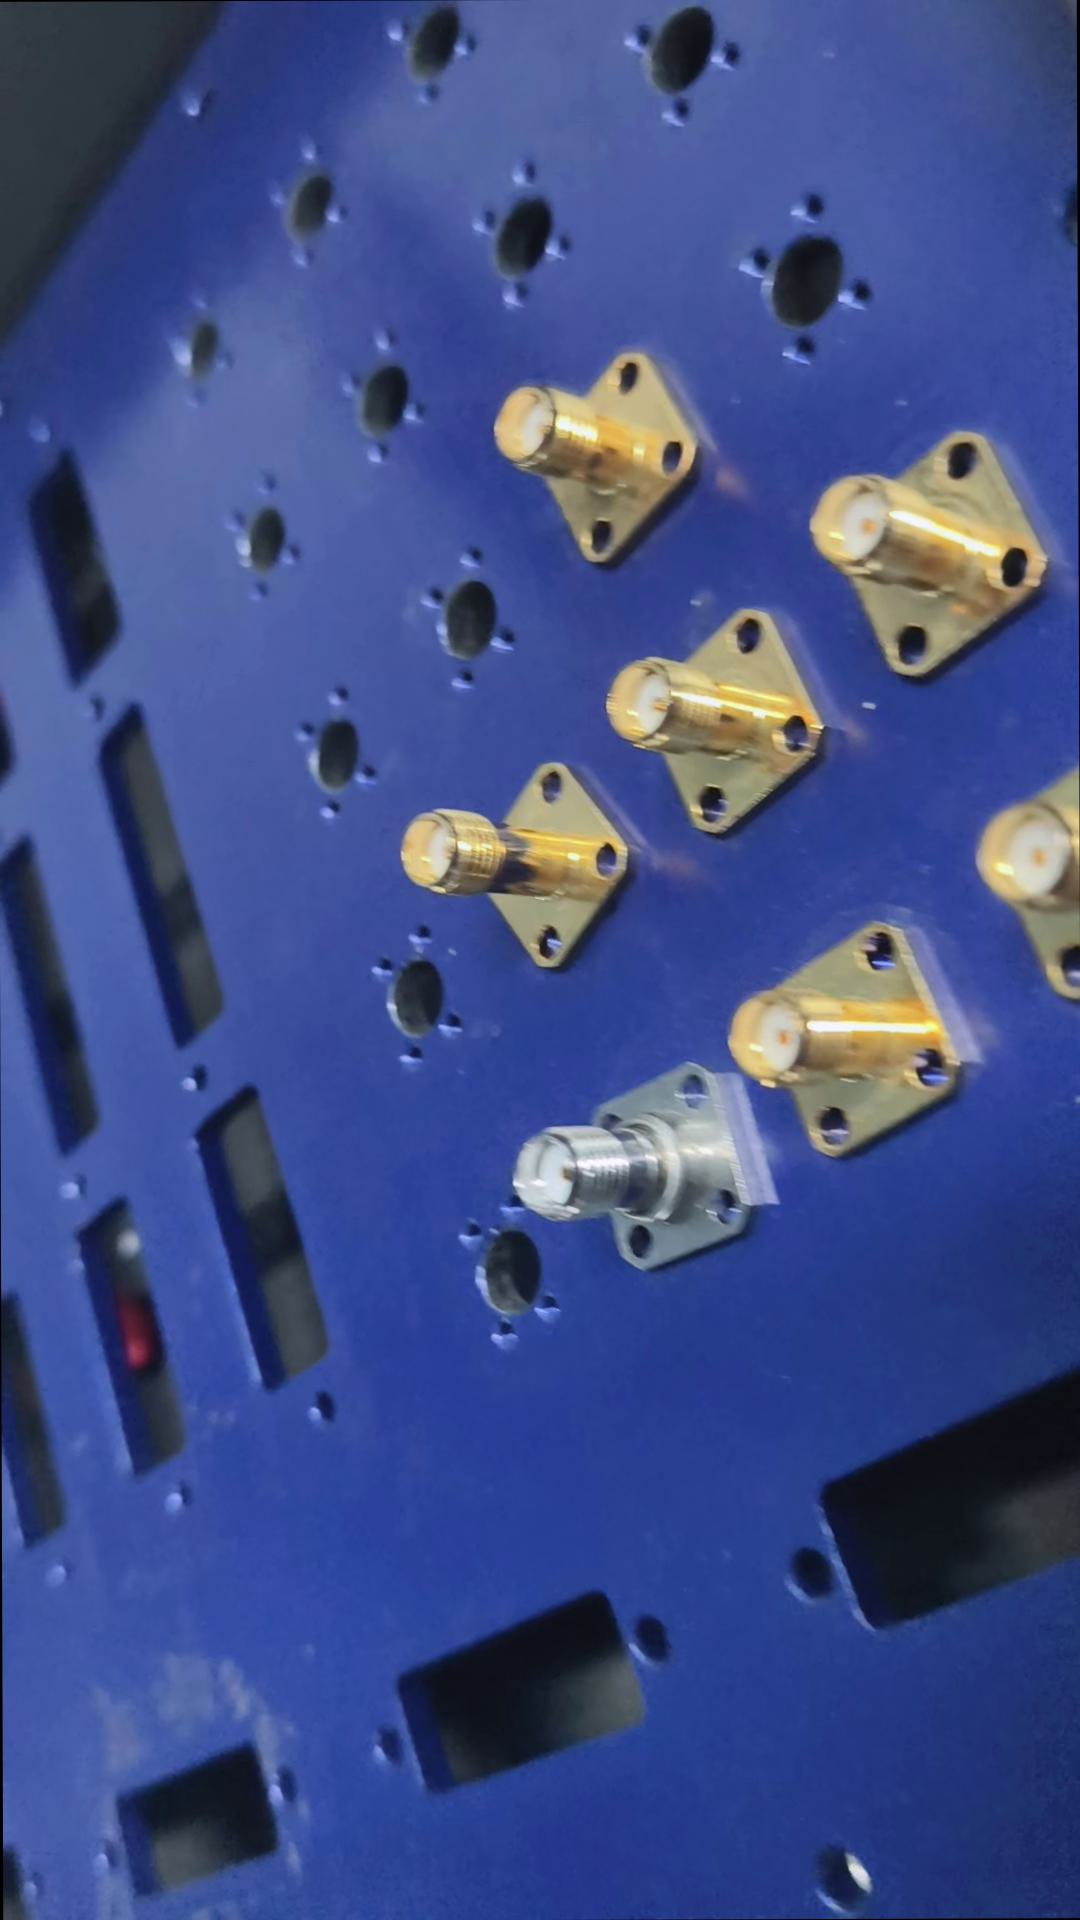SMA: (796, 426, 1042, 680), (509, 1035, 766, 1273), (717, 916, 951, 1175), (402, 725, 625, 975), (488, 327, 699, 568), (603, 605, 818, 837)
